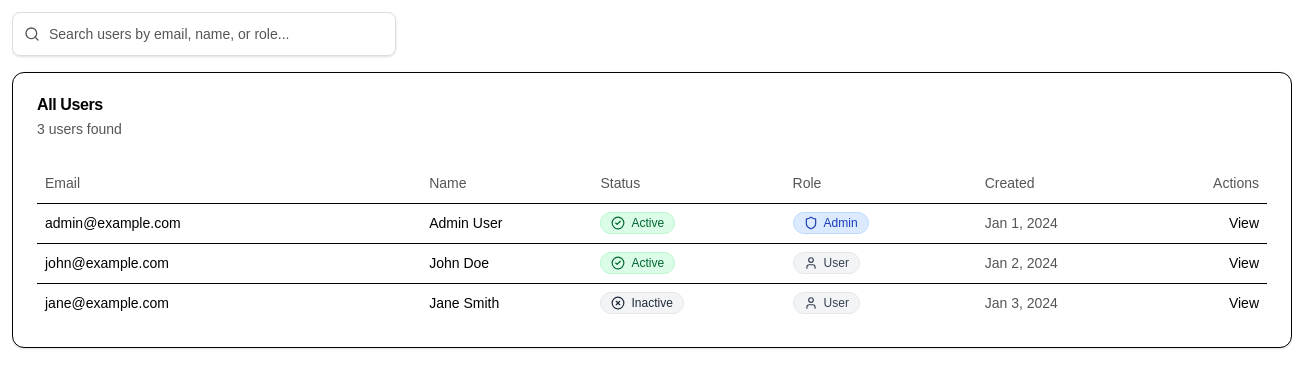
Test: UserListTableWithSearch › filters users by name
Note: Search for 'Jane Smith'
In the field with placeholder "Search users by email, name, or role...": (204,34) [12,12,396,56], type "Jane"
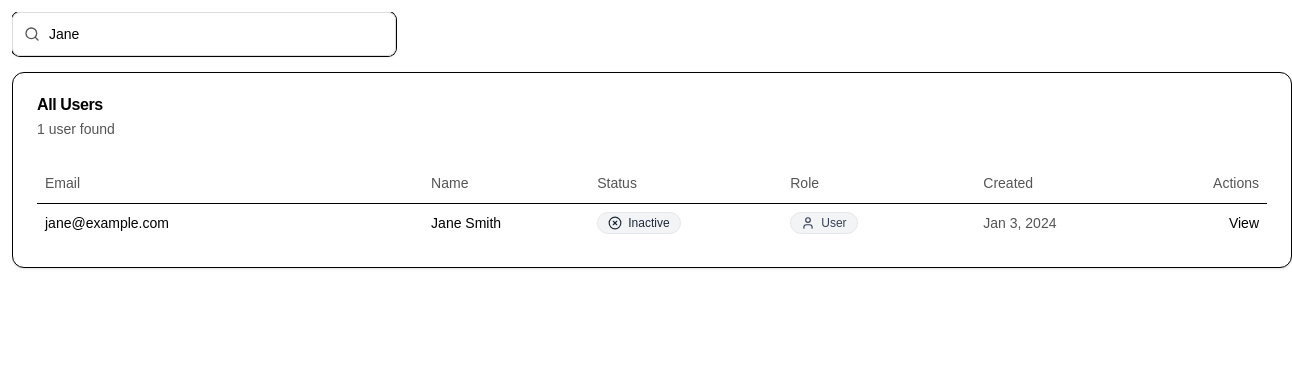
expect the text "1 user found" is shown: met, box [37,121,115,137]
expect the text "Admin User" is gone: met
expect the text "John Doe" is gone: met
